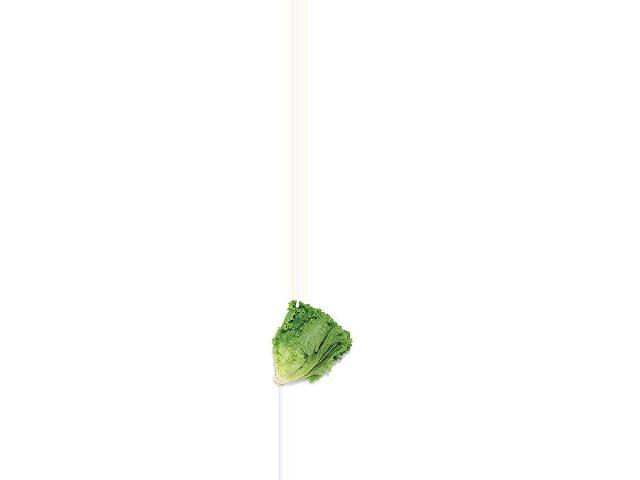lettuce: (265, 300, 359, 388)
